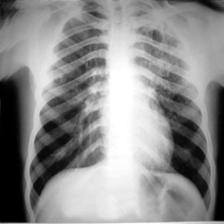tuberculosis: (24, 0, 215, 224)
